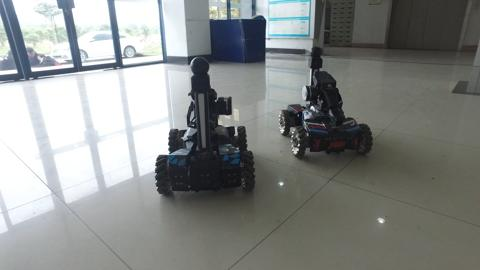car: (50, 24, 161, 62)
chariot: (150, 54, 263, 200), (277, 42, 376, 161)
